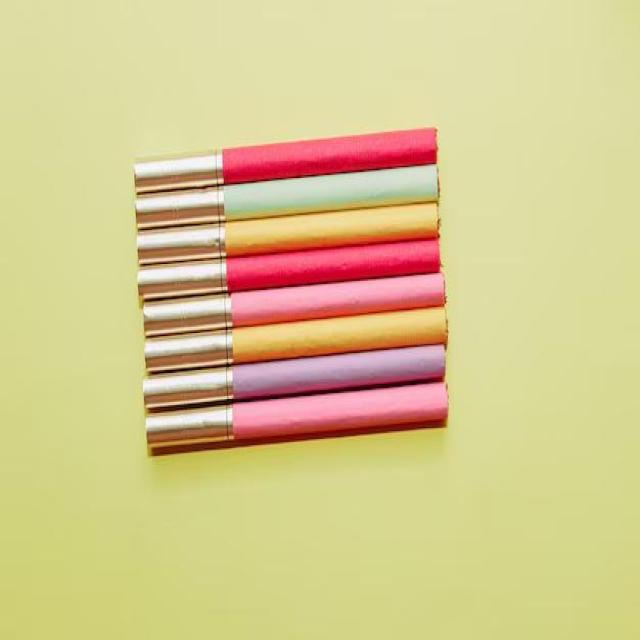cigarette: (143, 271, 445, 338), (145, 305, 447, 372), (146, 381, 448, 447), (144, 344, 445, 410), (135, 165, 439, 230), (135, 129, 437, 194), (138, 237, 440, 302), (137, 203, 439, 265)
